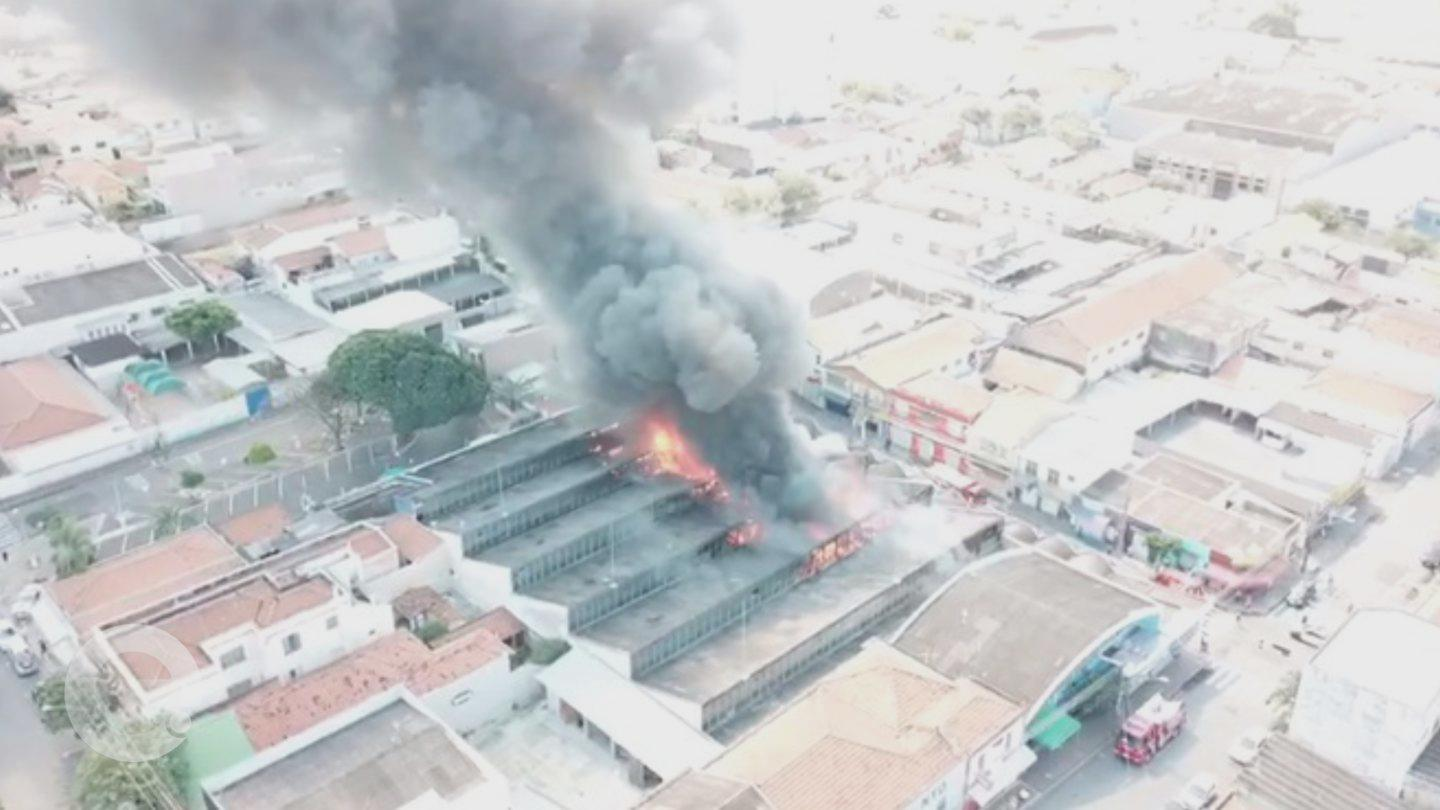Fire: (650, 427, 715, 478)
